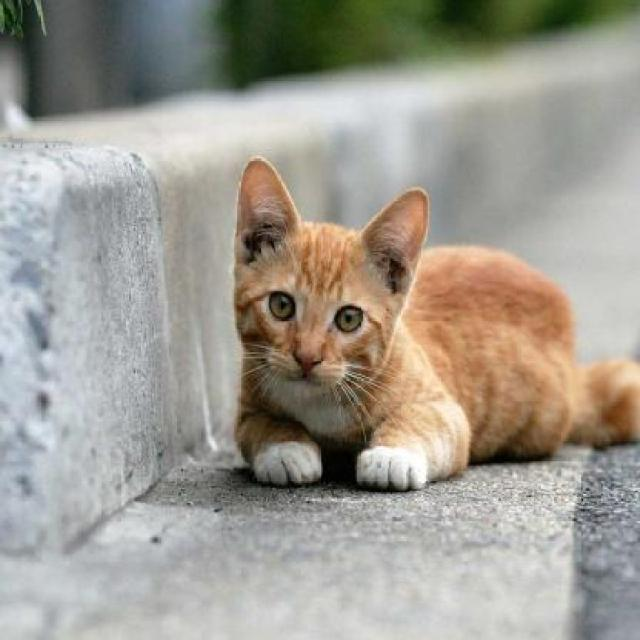cat: (221, 168, 577, 483)
